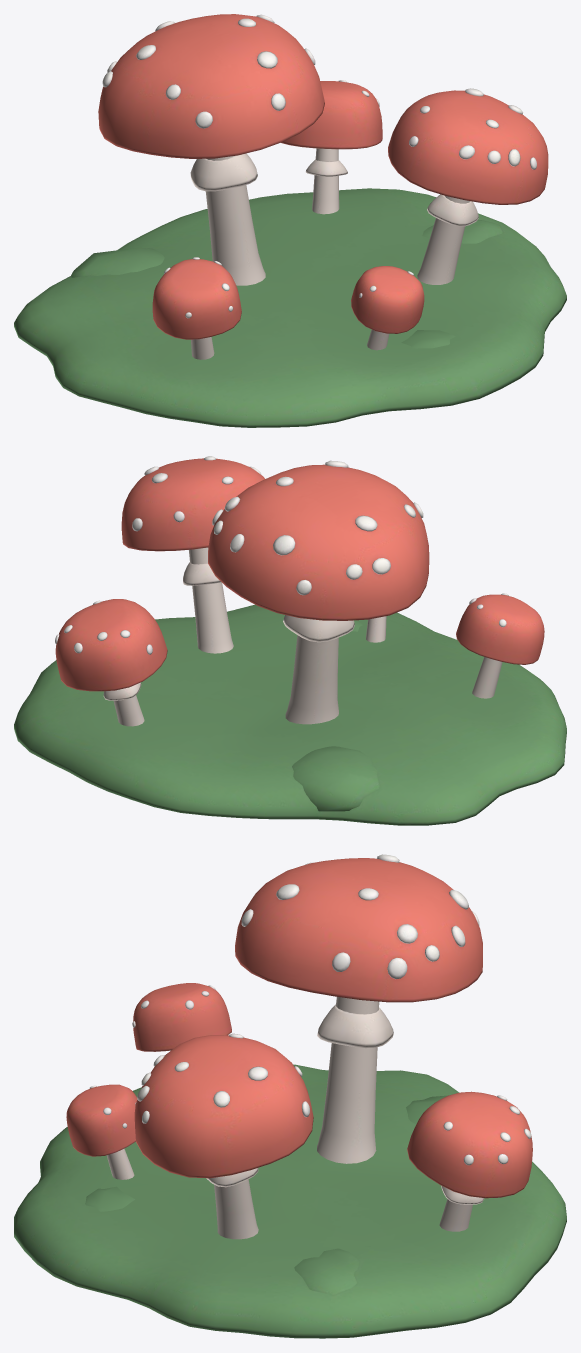
Rendered from toadstool-cluster.glb.
3 renders of one model, top to bottom at view 1: azimuth 30°, elevation 25°; view 2: azimuth 150°, elevation 25°; view 3: azimuth 270°, elevation 25°, orthographic. The views are drawn at different scales.
Parts seen in each view (by area): view 1: toadstool-cluster.001; view 2: toadstool-cluster.001; view 3: toadstool-cluster.001.
Boxes of the visible parts, x1,y1,x2,y2 form: toadstool-cluster.001: (14, 14, 566, 427); toadstool-cluster.001: (14, 456, 566, 825); toadstool-cluster.001: (14, 854, 566, 1338).
Size of the model in its own units: 1.84 by 1 by 1.63.
Materials: 1 (1 with a texture image).
